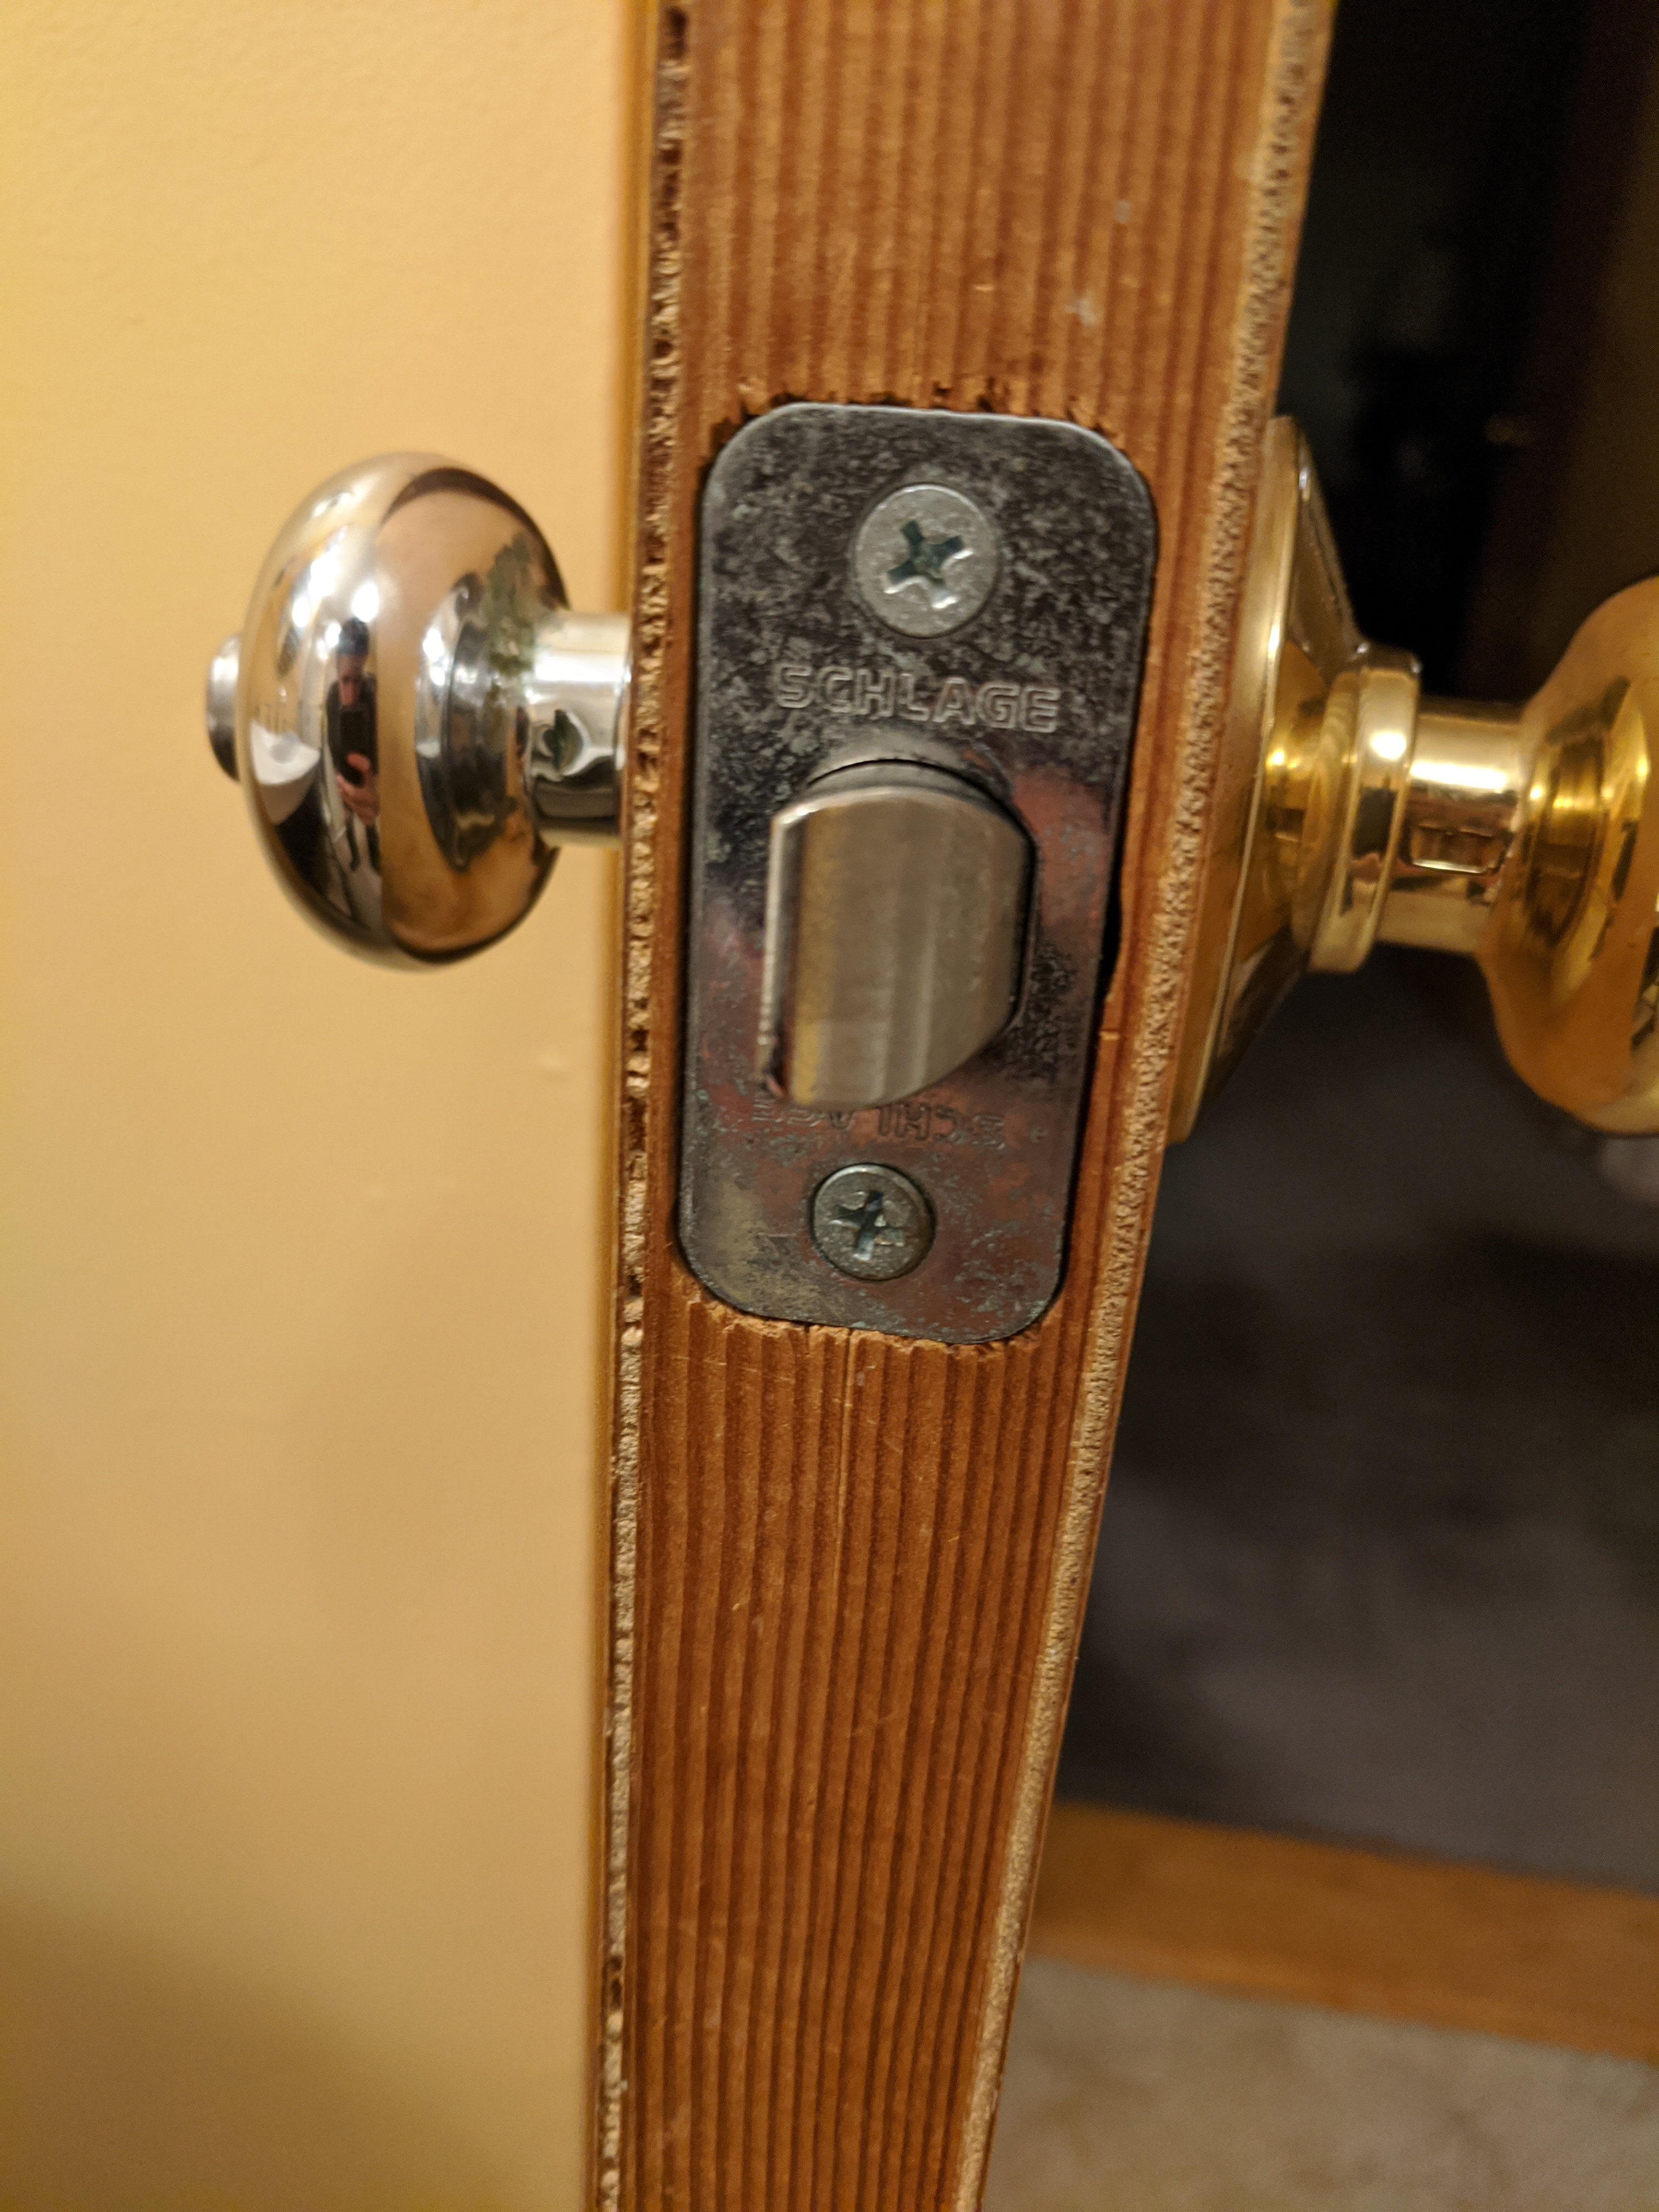cross_recessed_screw: (850, 474, 1011, 646), (793, 1144, 929, 1285)
